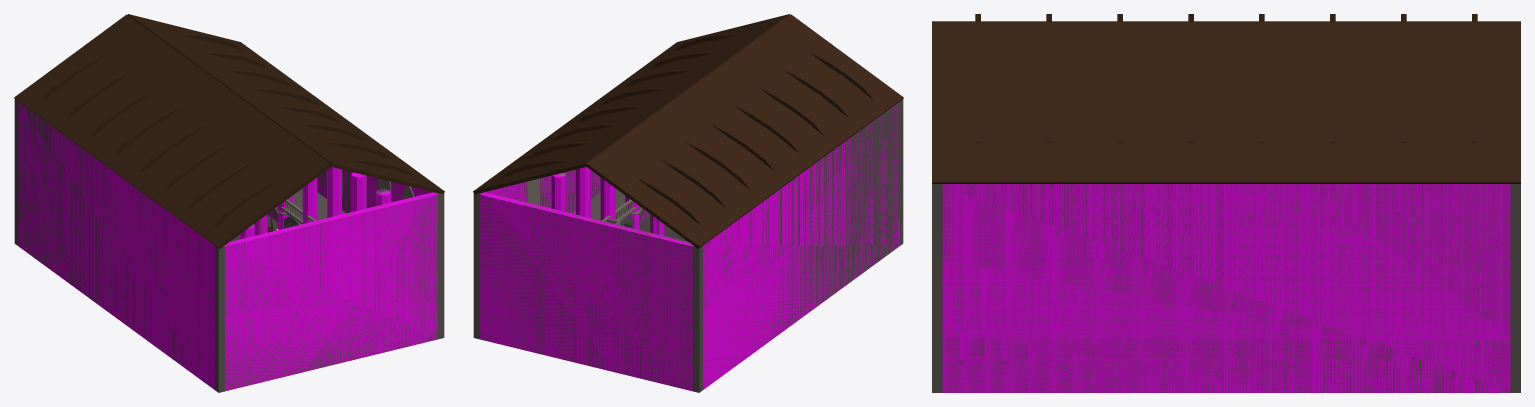
Rendered from igreja.glb.
The picture shows the model from 3 angles, left to right: view 1: azimuth 30°, elevation 25°; view 2: azimuth 150°, elevation 25°; view 3: azimuth 270°, elevation 25°; orthographic projection. The views are drawn at different scales.
Parts seen in each view (by area): view 1: OCC_roof-1, COL_box_wall_front, COL_box_wall_left, OCC_wall_front, OCC_wall_left, OCC_roof1, static_MAT_CLOTH_wood_dark, COL_box_wall_right, OCC_wall_right, COL_cyl_pillar1_4, static_MAT_CLOTH_church_stone, OCC_wall_back (+3 smaller); view 2: OCC_roof-1, COL_box_wall_back, COL_box_wall_left, OCC_wall_back, OCC_wall_left, OCC_roof1, static_MAT_CLOTH_wood_dark, COL_box_wall_right, OCC_wall_right, static_MAT_CLOTH_stone_trim, COL_cyl_pillar1_1, static_MAT_CLOTH_church_stone (+3 smaller); view 3: COL_box_wall_right, OCC_roof1, OCC_wall_right, static_MAT_CLOTH_wood_dark, OCC_wall_back, OCC_wall_front, OCC_roof-1.
Part boxes in pixels (box(x1,y1,x2,y2)): OCC_roof-1: box(14, 14, 331, 249); COL_box_wall_front: box(224, 192, 437, 391); COL_box_wall_left: box(18, 102, 214, 389); OCC_wall_front: box(215, 192, 444, 392); OCC_wall_left: box(16, 102, 215, 384); OCC_roof1: box(128, 14, 444, 193); static_MAT_CLOTH_wood_dark: box(42, 33, 415, 232); COL_box_wall_right: box(268, 170, 432, 225); OCC_wall_right: box(268, 169, 419, 221); COL_cyl_pillar1_4: box(327, 167, 341, 217); static_MAT_CLOTH_church_stone: box(259, 188, 345, 234); OCC_wall_back: box(14, 99, 18, 245); OCC_roof-1: box(586, 14, 903, 249); COL_box_wall_back: box(480, 192, 693, 390); COL_box_wall_left: box(703, 103, 899, 389); OCC_wall_back: box(473, 192, 702, 392); OCC_wall_left: box(703, 100, 901, 382); OCC_roof1: box(473, 14, 789, 194); static_MAT_CLOTH_wood_dark: box(502, 33, 875, 225); COL_box_wall_right: box(485, 170, 649, 226); OCC_wall_right: box(481, 170, 649, 225); static_MAT_CLOTH_stone_trim: box(526, 170, 641, 224); COL_cyl_pillar1_1: box(576, 167, 590, 217); static_MAT_CLOTH_church_stone: box(572, 188, 658, 234); COL_box_wall_right: box(942, 184, 1510, 392); OCC_roof1: box(932, 22, 1520, 183); OCC_wall_right: box(937, 184, 1515, 392); static_MAT_CLOTH_wood_dark: box(975, 14, 1477, 163); OCC_wall_back: box(1510, 184, 1520, 392); OCC_wall_front: box(932, 184, 942, 392); OCC_roof-1: box(932, 21, 1520, 22).
Bounding box in the file's own units: 21.33 × 18.31 × 33.2.
